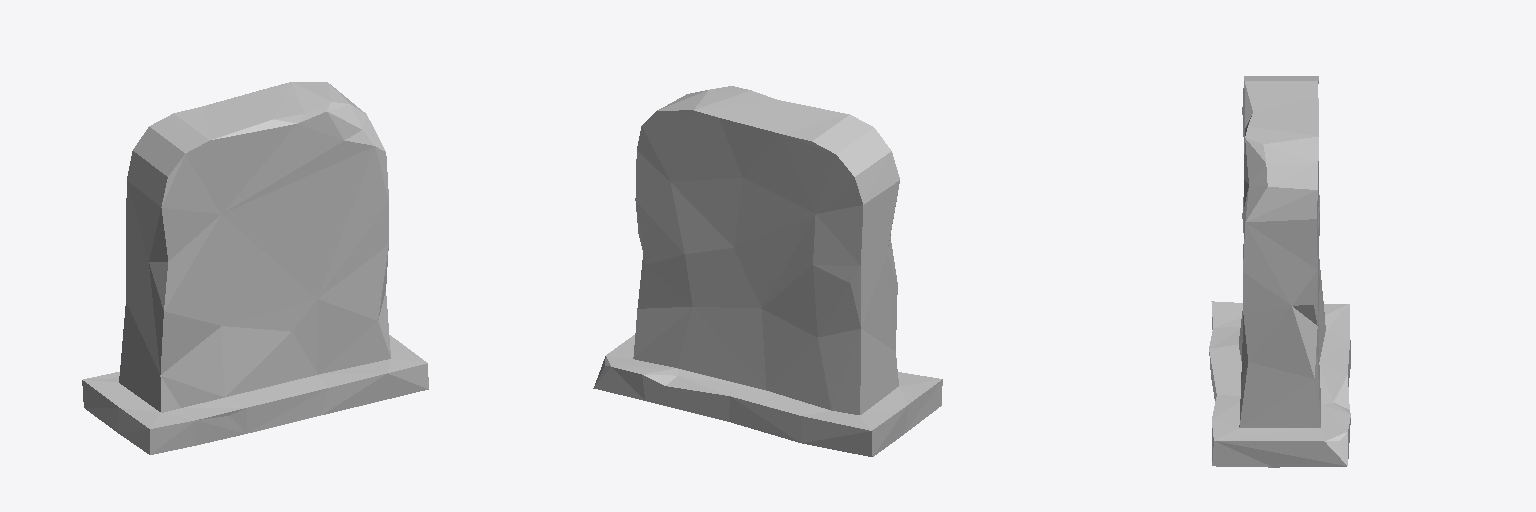
Rendered from tomb1.obj.
The picture shows the model from 3 angles: view 1: azimuth 30°, elevation 25°; view 2: azimuth 150°, elevation 25°; view 3: azimuth 270°, elevation 25°; orthographic projection.
Visible parts, largest first — view 1: Gravestone1_Cube.002; view 2: Gravestone1_Cube.002; view 3: Gravestone1_Cube.002.
Part boxes in pixels (bbox=[...]): Gravestone1_Cube.002: bbox=[82, 82, 428, 454]; Gravestone1_Cube.002: bbox=[593, 86, 942, 456]; Gravestone1_Cube.002: bbox=[1209, 76, 1350, 467].
Bounding box in the file's own units: 2.11 × 2.1 × 0.9257.